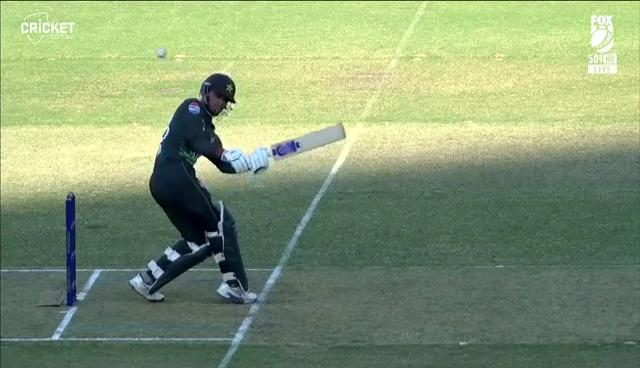ball: (144, 40, 176, 70)
